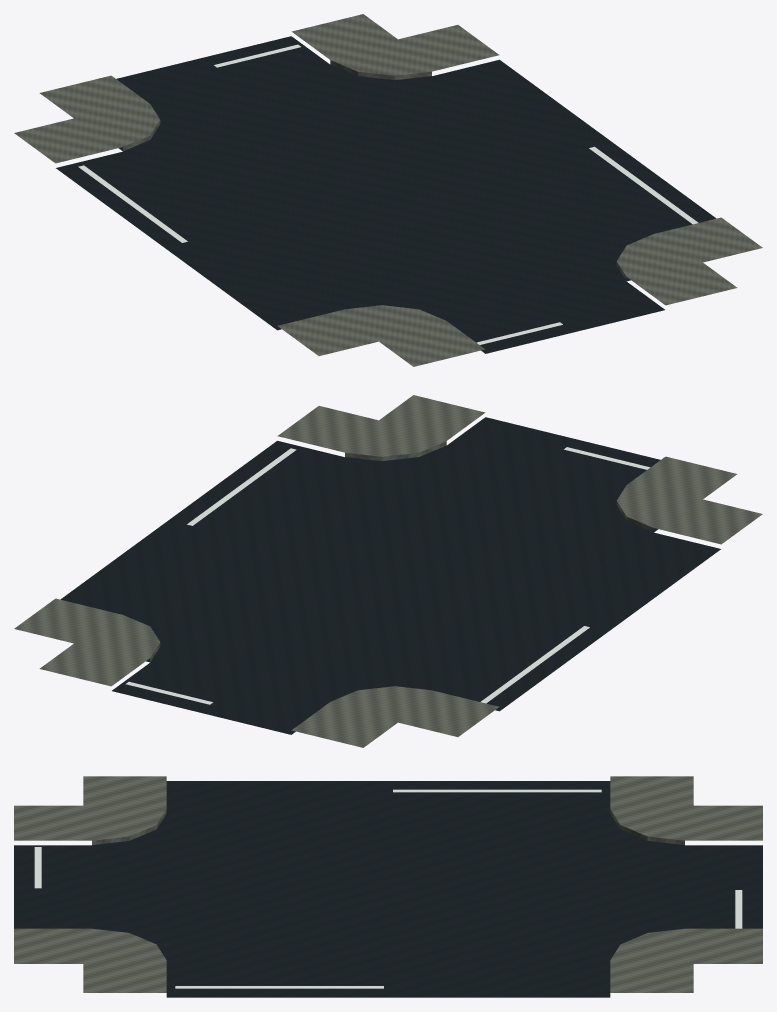
The model's file is junc_cross_4x2_LOD2.glb.
3 views of the same model, one above another, from view 1: azimuth 30°, elevation 25°; view 2: azimuth 150°, elevation 25°; view 3: azimuth 270°, elevation 25° (orthographic).
Parts seen in each view (by area): view 1: junc_cross_4x2__surface.002, junc_cross_4x2__rounded_corner_curb.002, junc_cross_4x2__stop_line_paint.002; view 2: junc_cross_4x2__surface.002, junc_cross_4x2__rounded_corner_curb.002, junc_cross_4x2__stop_line_paint.002; view 3: junc_cross_4x2__surface.002, junc_cross_4x2__rounded_corner_curb.002, junc_cross_4x2__stop_line_paint.002.
Boxes of the visible parts, x1,y1,x2,y2 form: junc_cross_4x2__surface.002: (56, 36, 716, 353); junc_cross_4x2__rounded_corner_curb.002: (14, 14, 762, 366); junc_cross_4x2__stop_line_paint.002: (78, 44, 698, 344); junc_cross_4x2__surface.002: (60, 417, 720, 734); junc_cross_4x2__rounded_corner_curb.002: (14, 395, 762, 747); junc_cross_4x2__stop_line_paint.002: (125, 447, 650, 704); junc_cross_4x2__surface.002: (14, 781, 762, 997); junc_cross_4x2__rounded_corner_curb.002: (14, 776, 762, 992); junc_cross_4x2__stop_line_paint.002: (34, 789, 742, 988).
Bounding box in the file's own units: 14.8 × 0.145 × 21.6.
Materials: 4 (3 with a texture image).
